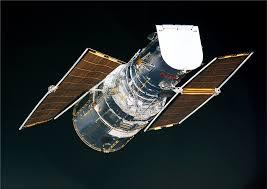body: (70, 23, 207, 155)
solar: (142, 49, 258, 134), (16, 46, 128, 133)
